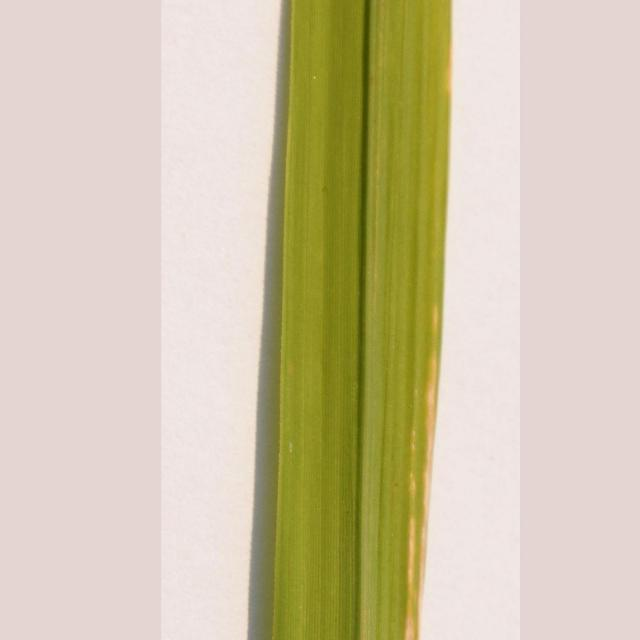leaf blight: (376, 303, 462, 639)
